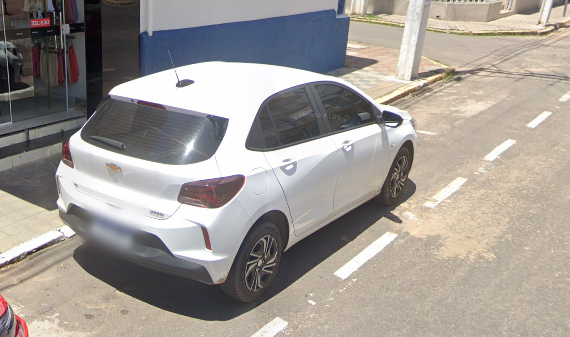car: (54, 47, 423, 305)
